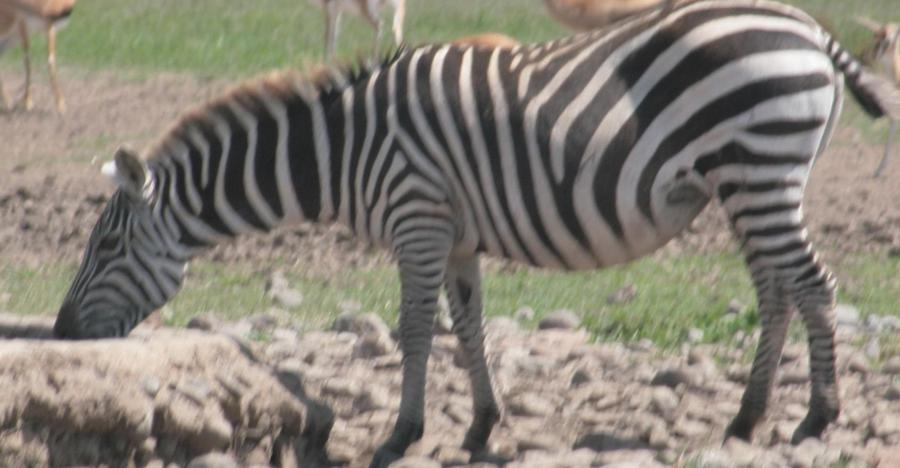zebra_plains: (296, 23, 872, 253)
